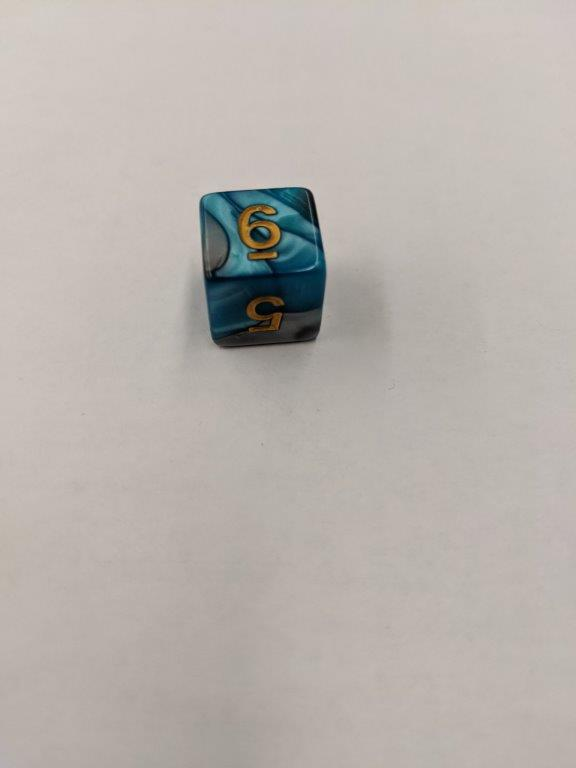d6-6: (197, 186, 326, 349)
